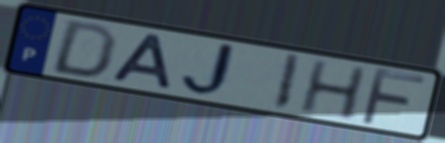A: (109, 31, 175, 92)
D: (47, 18, 122, 80)
F: (357, 65, 428, 128)
H: (296, 58, 370, 123)
I: (269, 52, 304, 114)
J: (178, 41, 244, 99)
